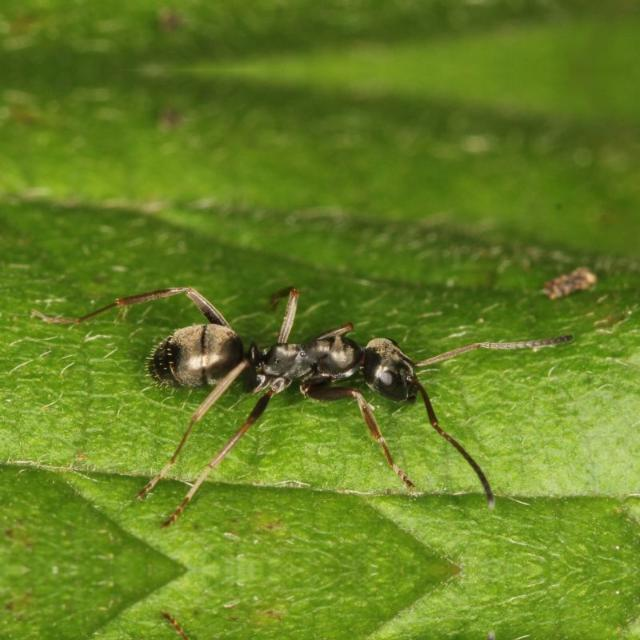Formica: (116, 262, 480, 453)
